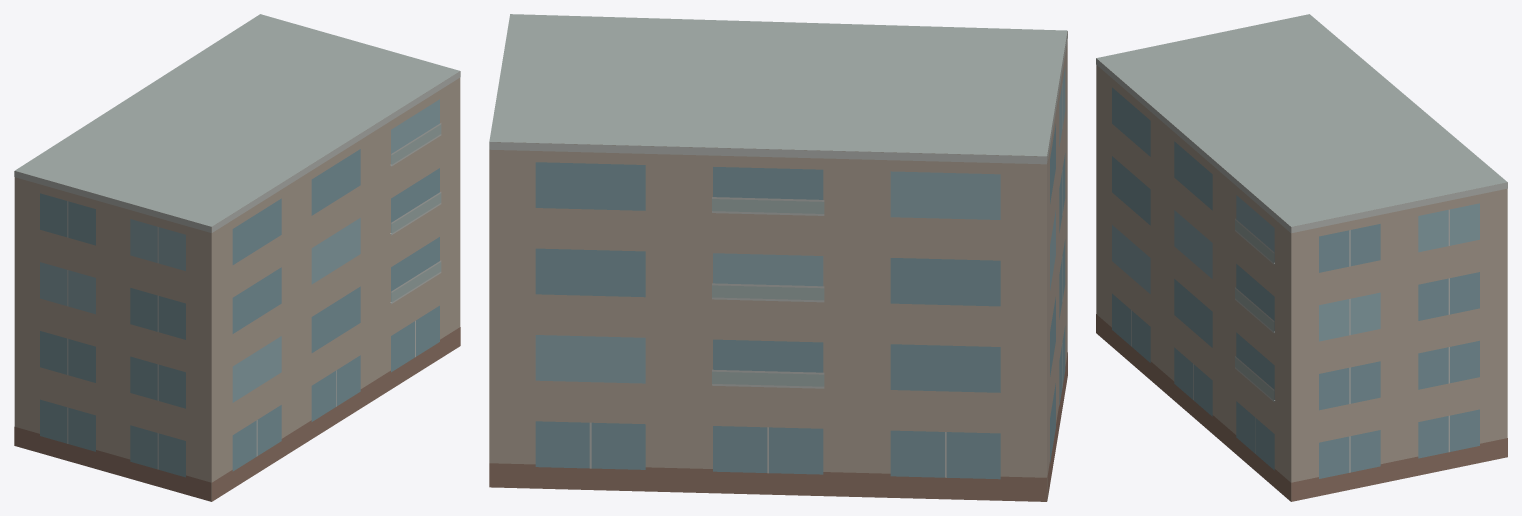
The model's file is survey-upis-32985147.glb.
3 views of the same model, side by side, from view 1: azimuth 30°, elevation 25°; view 2: azimuth 150°, elevation 25°; view 3: azimuth 270°, elevation 25° (orthographic). The views are drawn at different scales.
Parts seen in each view (by area): view 1: survey-upis-32985147.tmp; view 2: survey-upis-32985147.tmp; view 3: survey-upis-32985147.tmp.
Boxes of the visible parts, x1,y1,x2,y2 form: survey-upis-32985147.tmp: (14,14,460,501); survey-upis-32985147.tmp: (489,14,1067,501); survey-upis-32985147.tmp: (1096,14,1507,501).
Bounding box in the file's own units: 17.62 × 10.6 × 14.4.
